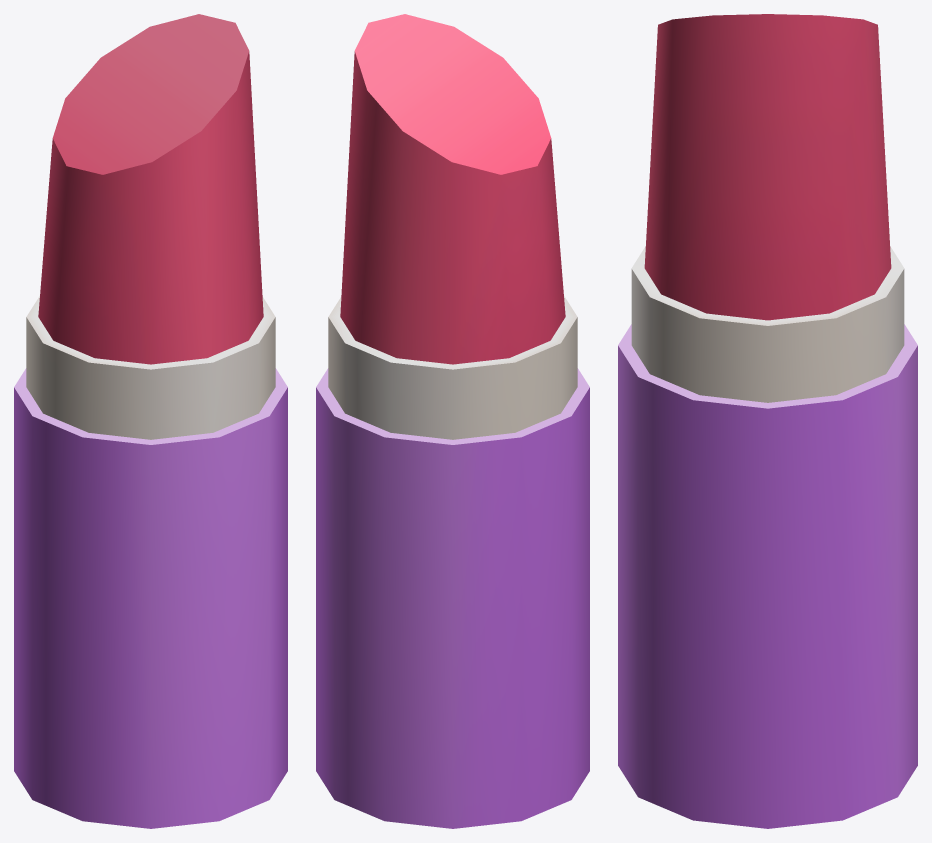
The model's file is Doll_OB_Vanity_001_3.fbx.
3 renders of one model, left to right at view 1: azimuth 30°, elevation 25°; view 2: azimuth 150°, elevation 25°; view 3: azimuth 270°, elevation 25°, orthographic. The views are drawn at different scales.
Parts seen in each view (by area): view 1: Doll_OB_Vanity_001_3; view 2: Doll_OB_Vanity_001_3; view 3: Doll_OB_Vanity_001_3.
Boxes of the visible parts, bbox=[...] form: Doll_OB_Vanity_001_3: bbox=[14, 14, 287, 828]; Doll_OB_Vanity_001_3: bbox=[316, 14, 589, 828]; Doll_OB_Vanity_001_3: bbox=[618, 14, 917, 828].
Size of the model in its own units: 3.15 by 9.22 by 3.15.
